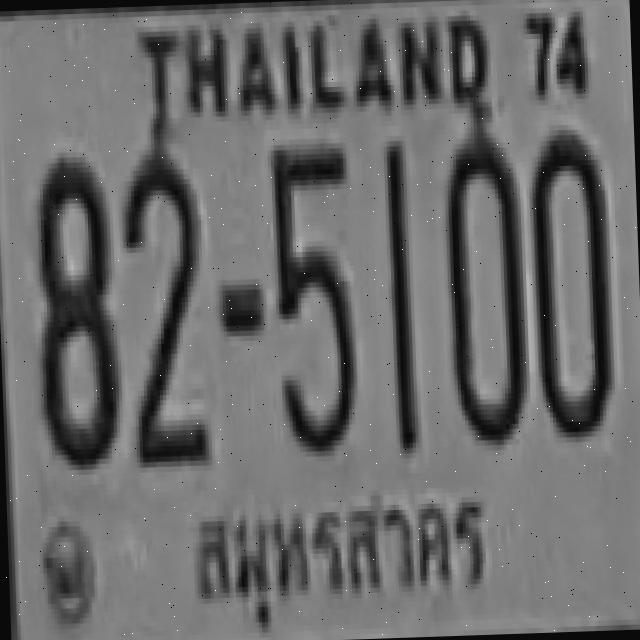0: (527, 127, 613, 436), (441, 129, 524, 444)
1: (381, 138, 414, 451)
2: (120, 148, 206, 462)
5: (266, 138, 356, 452)
8: (30, 150, 116, 466)
SamutSakhon: (186, 480, 507, 626)
